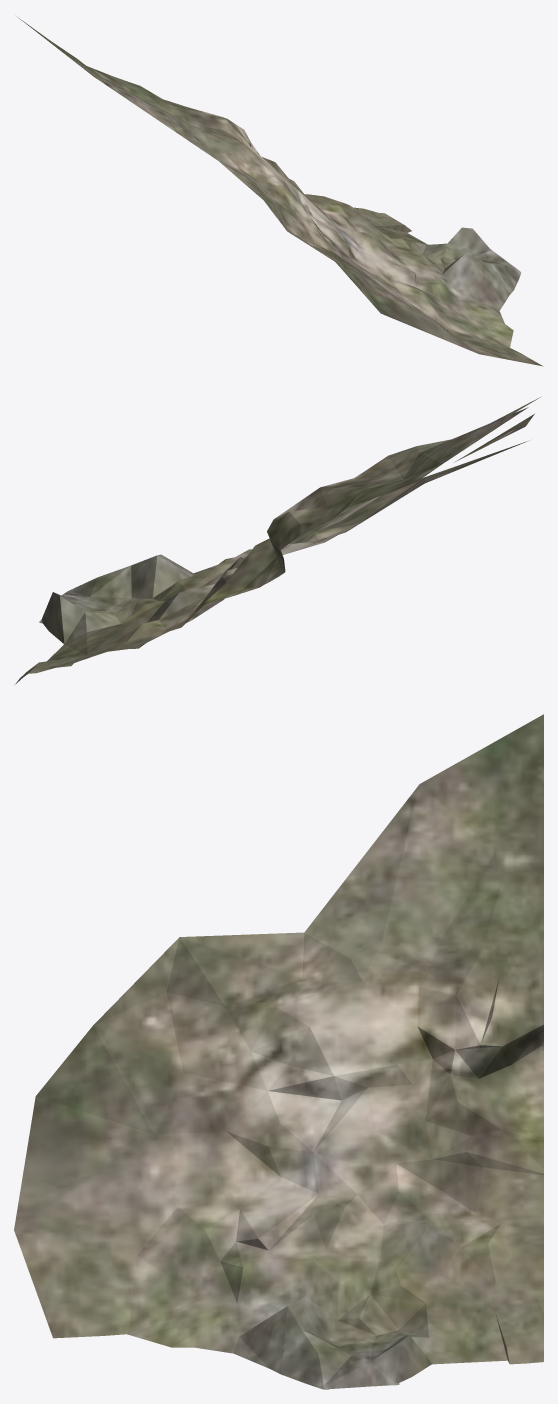
3 views of the same model, one above another, from view 1: azimuth 30°, elevation 25°; view 2: azimuth 150°, elevation 25°; view 3: azimuth 270°, elevation 25° (orthographic). The views are drawn at different scales.
Size of the model in its own units: 7.13 by 4.83 by 5.79.
Materials: 1 (1 with a texture image).
